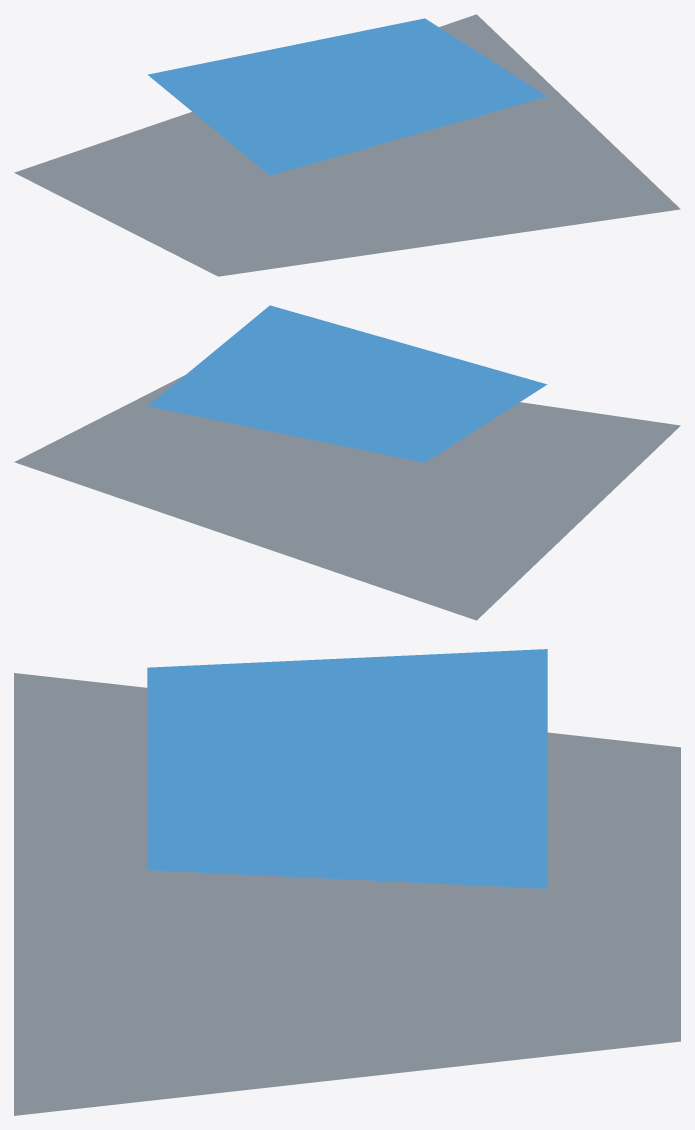
The model's file is AL_VectorVTOL_LOD2.glb.
3 renders of one model, top to bottom at view 1: azimuth 30°, elevation 25°; view 2: azimuth 150°, elevation 25°; view 3: azimuth 270°, elevation 25°, orthographic. The views are drawn at different scales.
Visible parts, largest first — view 1: EntranceGate; view 2: EntranceGate; view 3: EntranceGate.
Part boxes in pixels (x1,y1,x2,y2): EntranceGate: (14, 14, 680, 276); EntranceGate: (14, 305, 680, 620); EntranceGate: (14, 649, 680, 1115).
Size of the model in its own units: 680 by 148 by 520.
